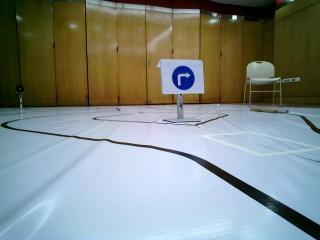right: (162, 62, 202, 91)
